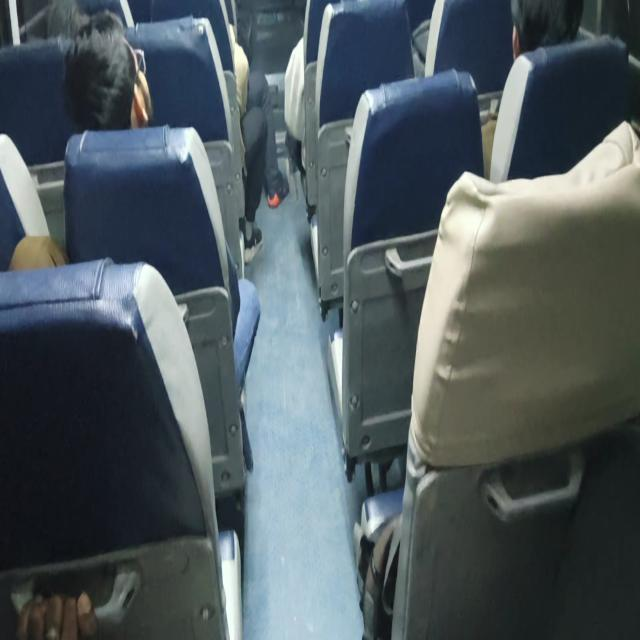person: (69, 24, 169, 127), (502, 0, 594, 64), (37, 0, 111, 31)
